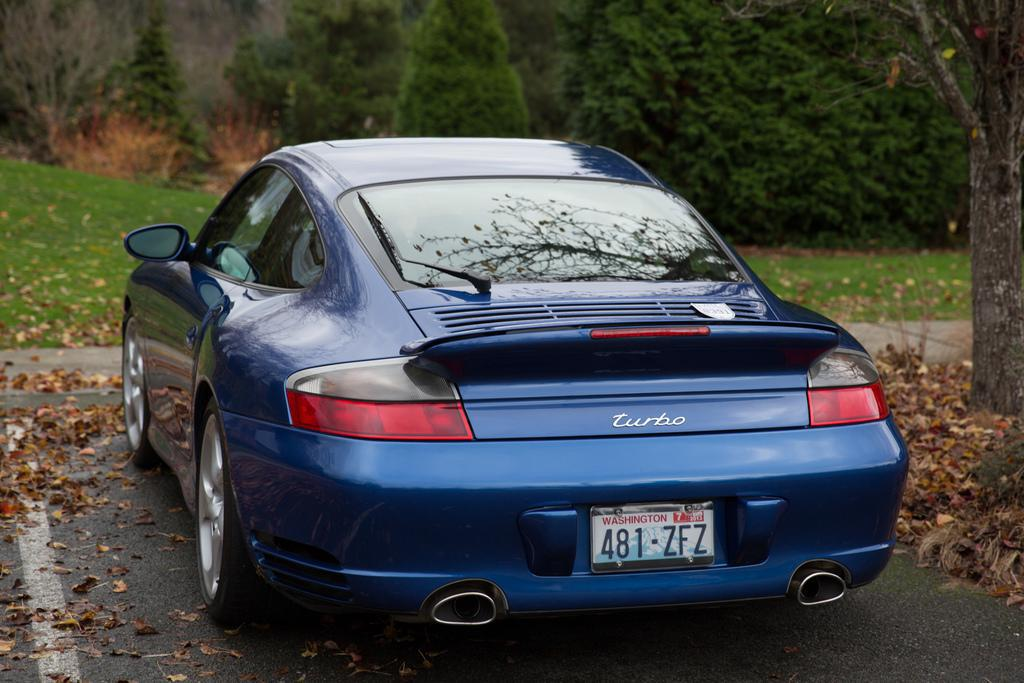License_Plate: (589, 501, 717, 579)
